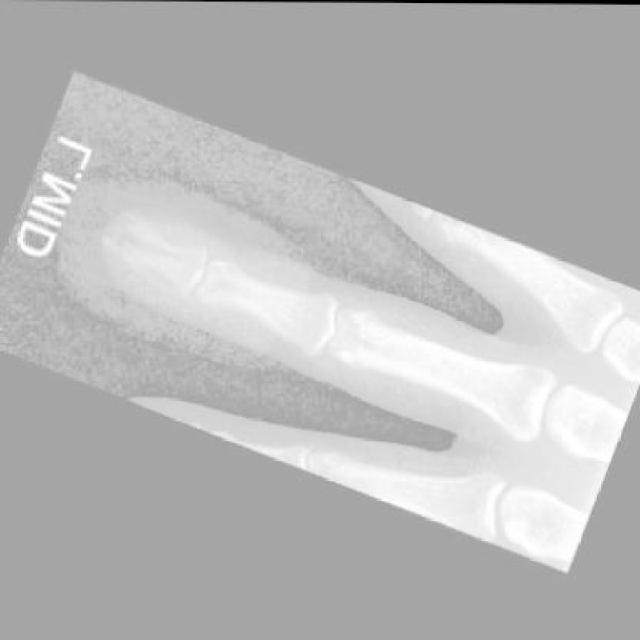Fracture: (105, 208, 202, 287)
